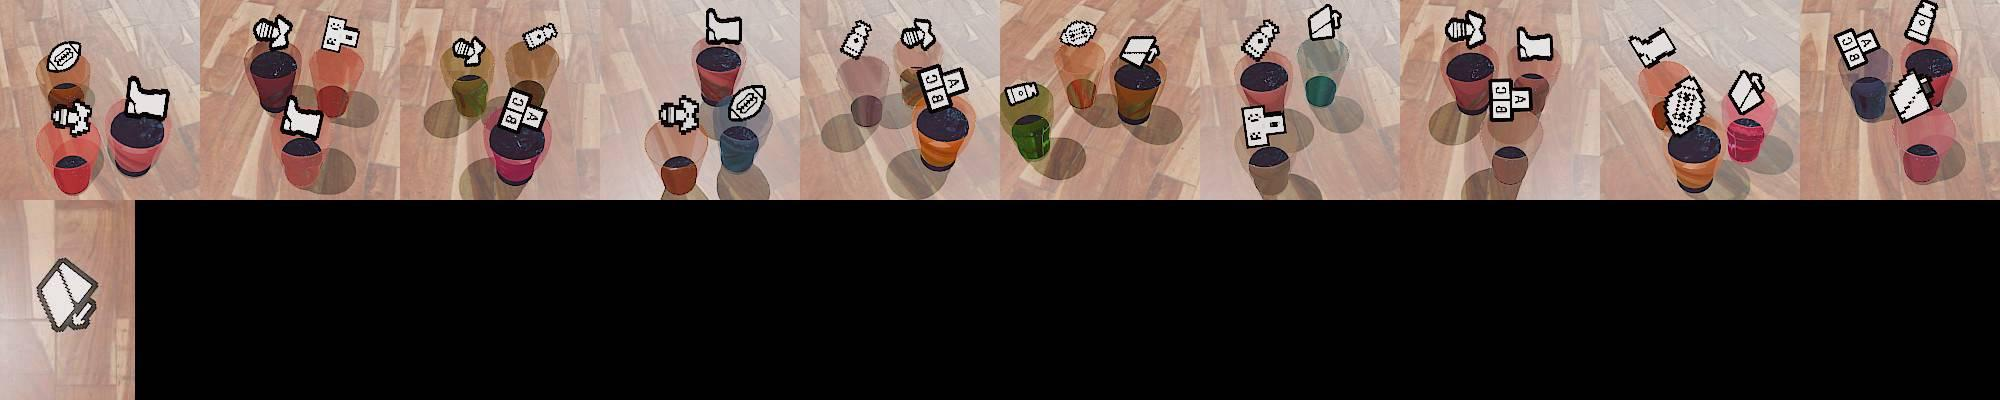icon: (34, 257, 99, 334), (917, 62, 972, 113), (1665, 74, 1707, 134), (496, 87, 547, 134), (124, 74, 172, 122), (1889, 71, 1931, 124), (1487, 76, 1536, 121), (1834, 27, 1879, 71), (1629, 27, 1677, 68), (279, 96, 324, 139), (1241, 104, 1286, 146), (1728, 69, 1768, 116), (657, 94, 702, 135), (1444, 9, 1487, 50), (51, 96, 94, 136), (1241, 18, 1281, 61), (253, 14, 296, 54), (1903, 0, 1939, 46), (320, 15, 361, 54), (728, 83, 767, 122), (705, 8, 744, 46), (1515, 25, 1555, 62), (1117, 34, 1159, 69), (1306, 3, 1342, 42), (839, 19, 874, 60), (901, 17, 936, 52), (452, 34, 486, 68), (522, 22, 559, 52), (1059, 19, 1097, 48), (47, 41, 82, 73), (1004, 79, 1041, 106)
